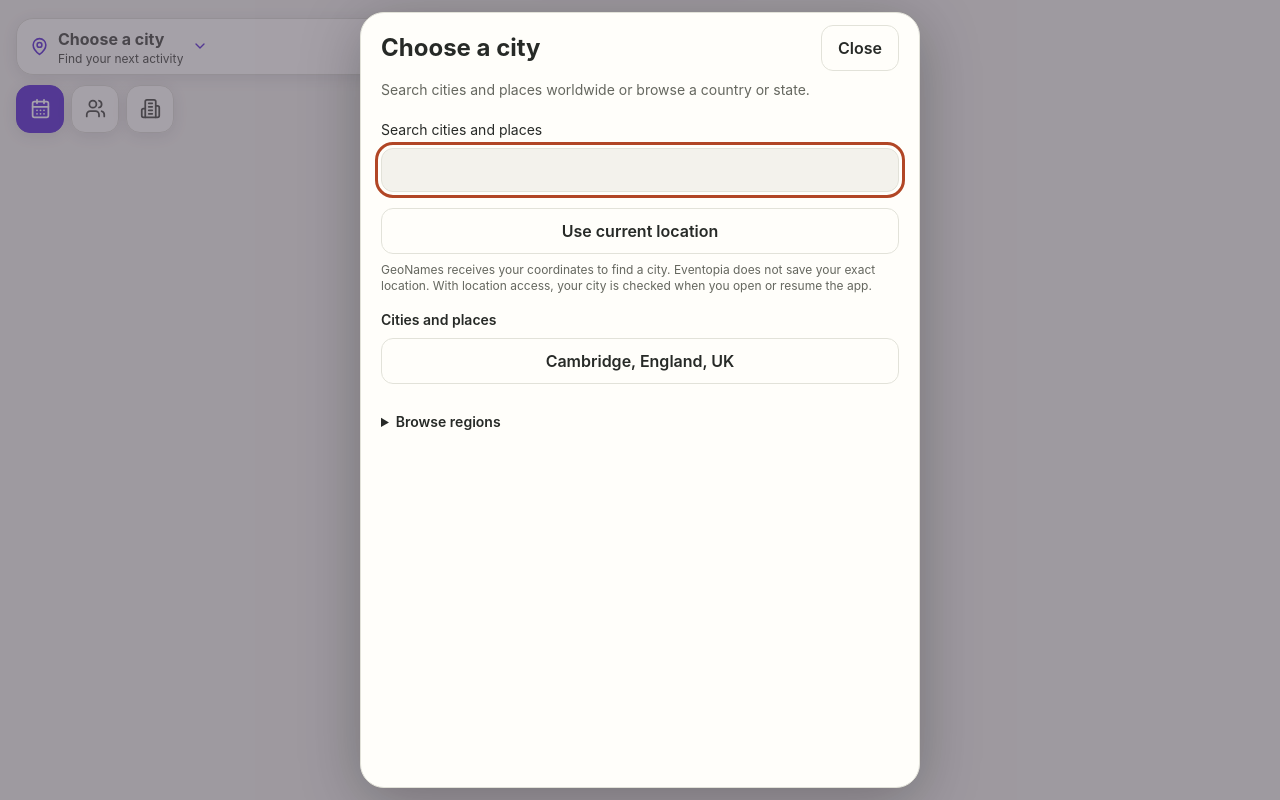
Test: offers manual city and explicit location action on first visit without assuming a city
Expected: the dialog is shown, x1=360 y1=12 x2=920 y2=788
Expected: the button "Use current location" is shown, x1=381 y1=208 x2=899 y2=254
Click the button "Cambridge, England, UK" at (640, 361), box x1=381 y1=338 x2=899 y2=384
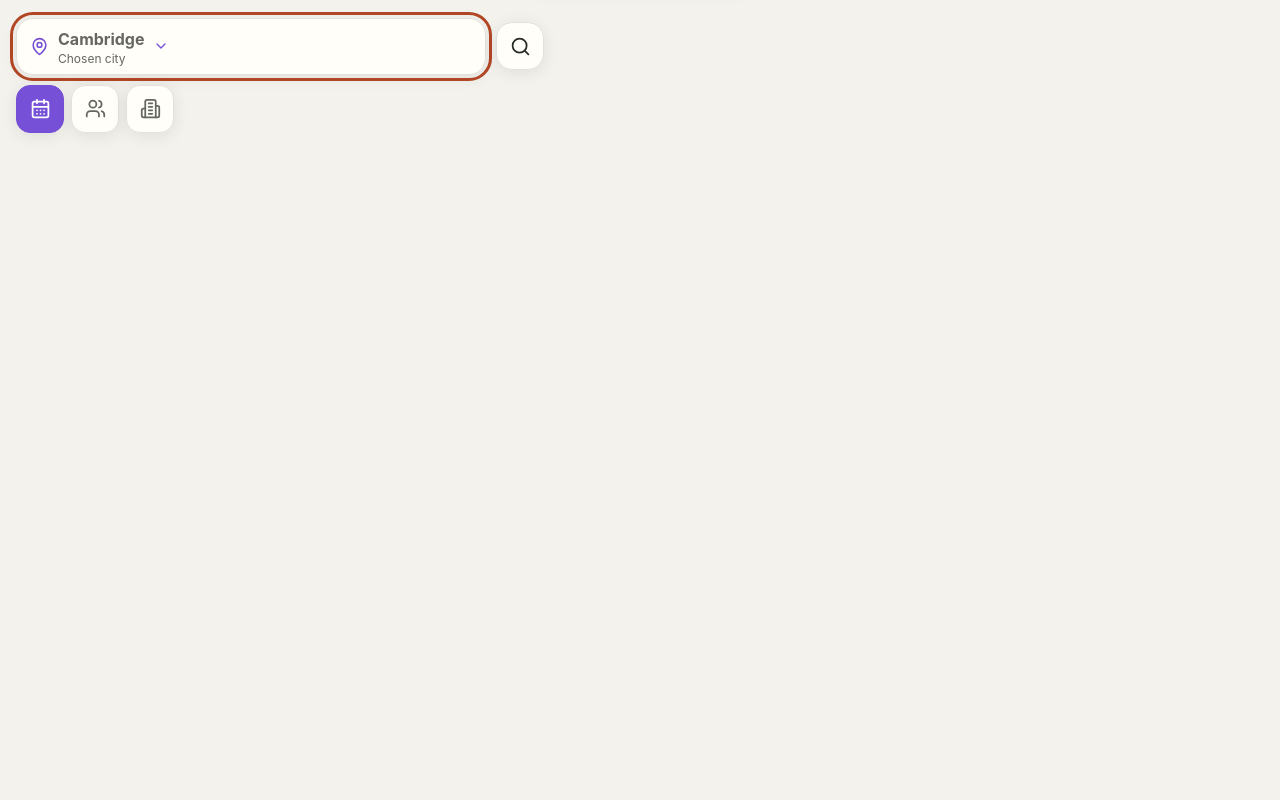
Result: the dialog is gone
Result: the button "Cambridge Chosen city" is shown at x1=16 y1=18 x2=486 y2=75
